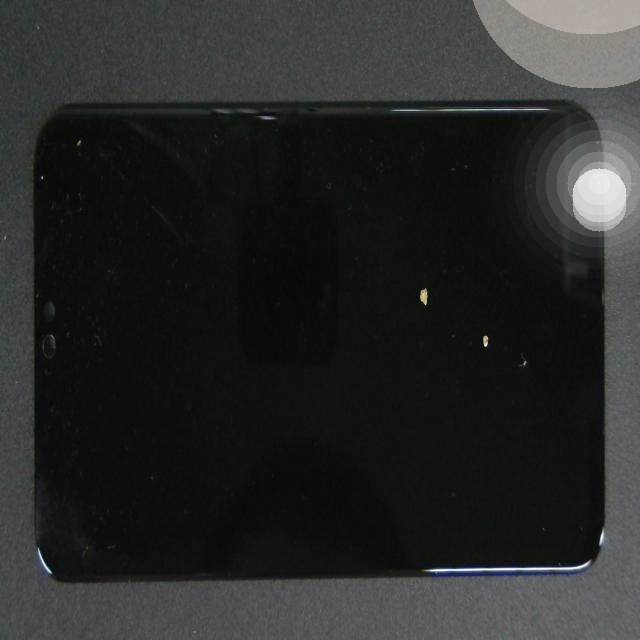stain: (248, 134, 640, 466), (214, 104, 619, 410)
